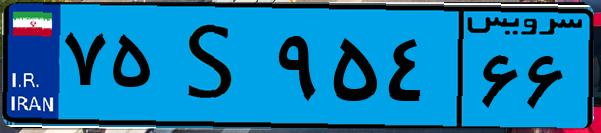4: (385, 28, 445, 110)
5: (330, 28, 385, 110), (110, 28, 158, 98)
6: (475, 38, 525, 113), (525, 38, 570, 115)
7: (57, 26, 110, 100)
9: (270, 28, 330, 110)
S: (158, 12, 270, 120)
